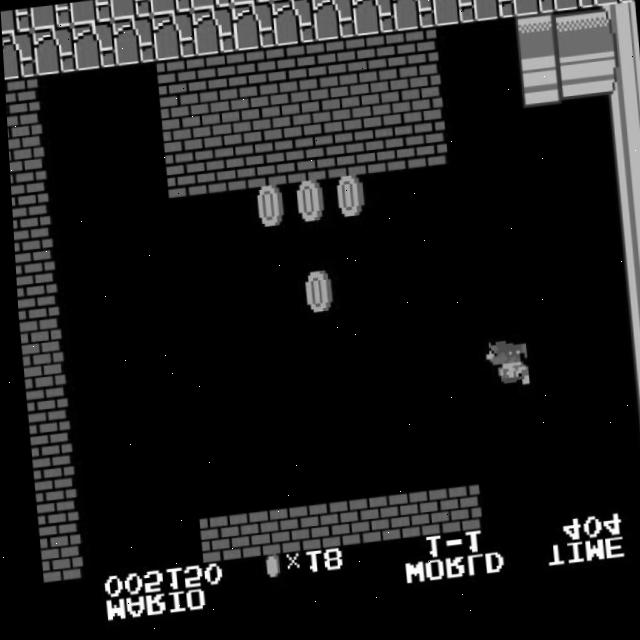1- brick_block: (197, 101, 243, 151), (237, 96, 283, 146), (277, 92, 323, 142), (17, 350, 62, 400), (191, 515, 236, 565), (158, 105, 203, 155), (154, 59, 199, 109), (231, 511, 276, 561), (194, 55, 239, 105), (271, 507, 316, 557), (234, 51, 279, 101), (311, 502, 356, 552), (274, 47, 319, 97), (351, 498, 396, 548), (317, 88, 362, 138), (314, 43, 359, 93), (391, 494, 436, 544), (357, 84, 402, 134), (354, 38, 399, 88), (431, 490, 476, 540), (397, 80, 442, 130), (394, 34, 439, 84), (28, 488, 73, 537), (162, 151, 207, 200), (202, 147, 247, 196), (242, 143, 287, 192), (281, 139, 326, 188), (321, 135, 366, 184), (361, 130, 406, 179), (401, 126, 446, 175), (32, 533, 76, 583), (21, 396, 65, 446), (25, 442, 69, 491), (14, 305, 57, 354), (12, 259, 53, 309), (10, 213, 50, 263), (8, 168, 46, 217), (6, 123, 43, 171), (4, 77, 39, 126)
11- little_mario: (477, 347, 524, 400)
14- pipe: (553, 17, 598, 68), (557, 63, 602, 113), (593, 14, 638, 64), (596, 60, 640, 109), (600, 106, 640, 155), (604, 150, 640, 200), (607, 196, 640, 246), (611, 242, 640, 291), (614, 287, 640, 337), (619, 333, 640, 383), (622, 379, 640, 428), (626, 425, 640, 474), (630, 470, 640, 520)
15- pipe_head: (513, 22, 559, 72), (517, 67, 562, 117)
17- undestructible_block: (30, 26, 76, 76), (70, 22, 116, 72), (110, 18, 156, 68), (150, 14, 195, 64), (190, 9, 235, 59), (230, 5, 275, 55), (270, 1, 315, 51), (310, 0, 355, 47), (350, 0, 395, 43), (390, 0, 435, 38), (2, 31, 35, 80), (430, 0, 475, 35), (470, 0, 515, 30), (510, 0, 555, 26), (29, 4, 72, 31), (69, 0, 112, 27), (550, 0, 595, 22), (109, 0, 152, 22), (589, 0, 634, 18), (1, 9, 32, 34), (149, 0, 192, 18), (189, 0, 232, 14), (229, 0, 272, 10), (268, 0, 311, 6), (308, 0, 351, 1)
2- coin: (292, 275, 338, 325), (245, 188, 290, 238), (285, 184, 330, 234), (325, 179, 370, 229)
